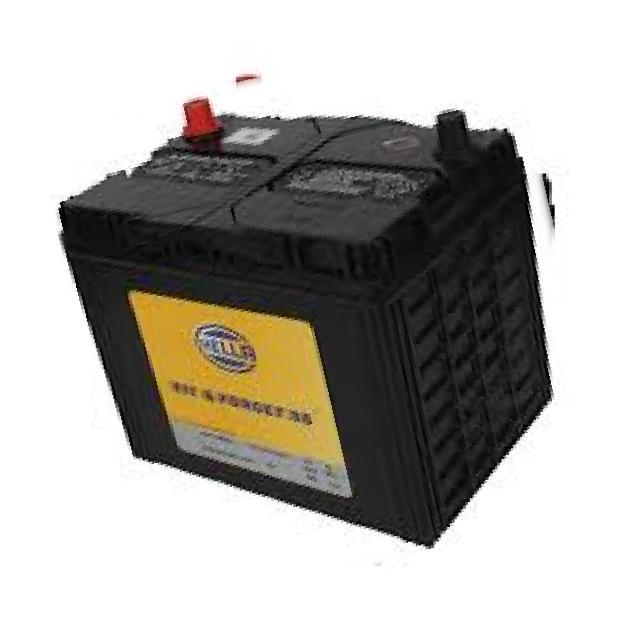Battery: (12, 33, 640, 640)
